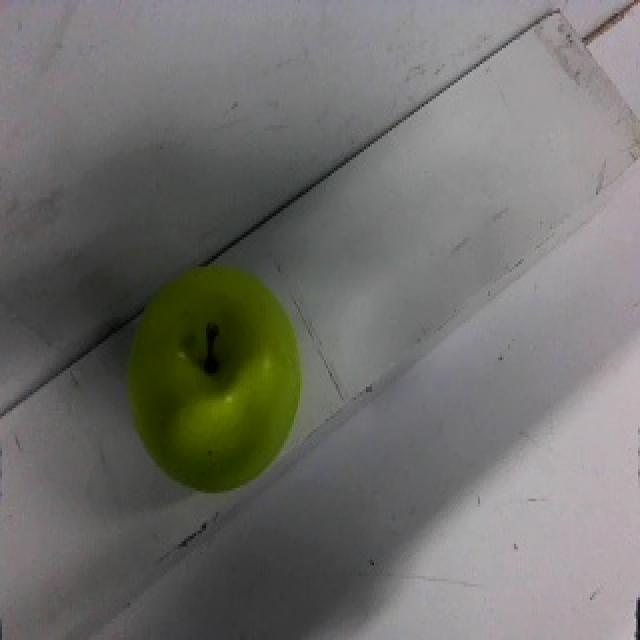apple: (126, 254, 304, 496)
